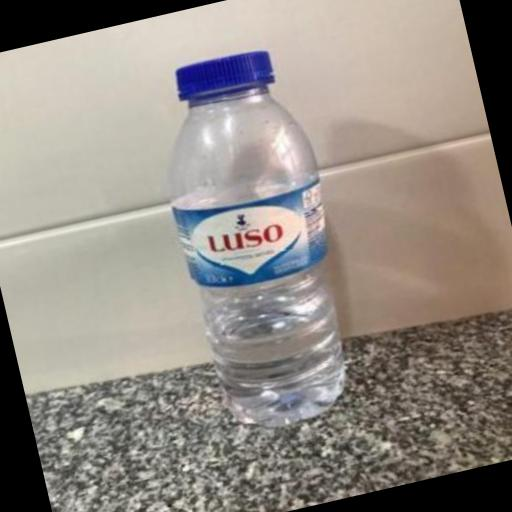Coca: (131, 27, 382, 446)
